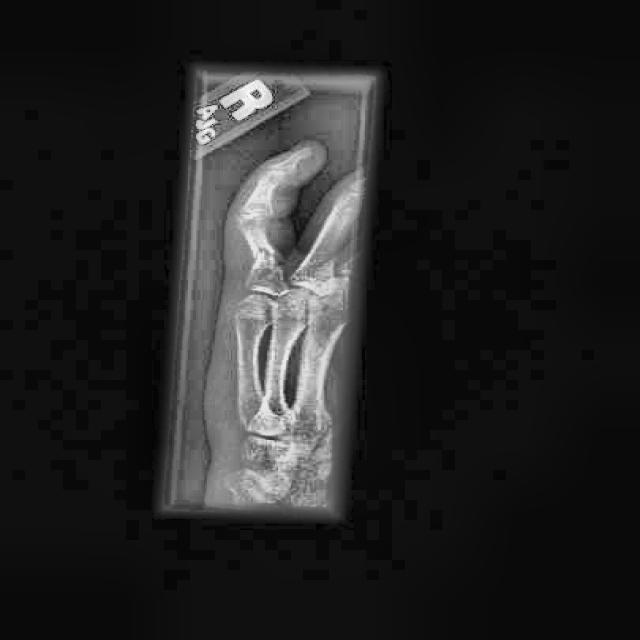fingers positive: (239, 234, 300, 281)
